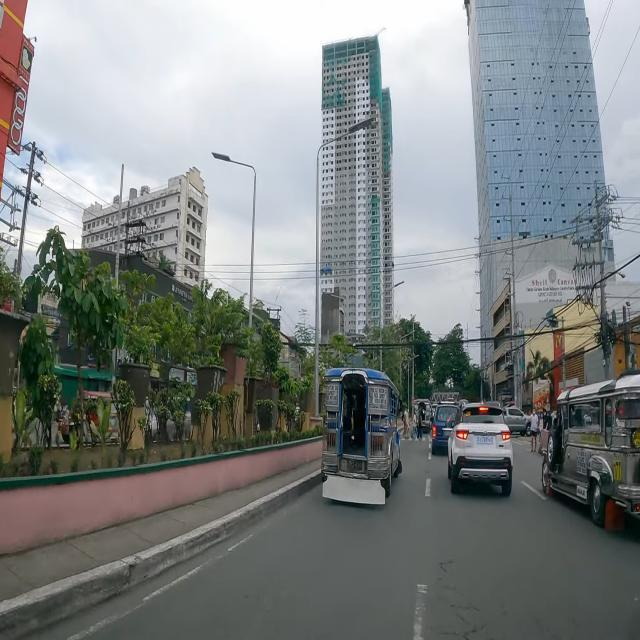car: (446, 403, 514, 496), (432, 404, 459, 454), (502, 408, 531, 437)
jeepney: (542, 370, 640, 526), (321, 368, 402, 503), (414, 398, 431, 431)
